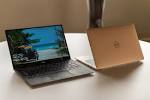laptop: (1, 23, 87, 85), (85, 20, 145, 74)
